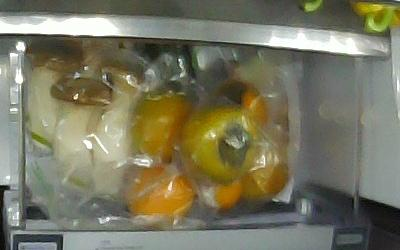persimmon_vinyl: (182, 105, 261, 182), (130, 86, 196, 164), (124, 164, 193, 223), (213, 77, 282, 134), (239, 139, 288, 203), (197, 175, 241, 208)
